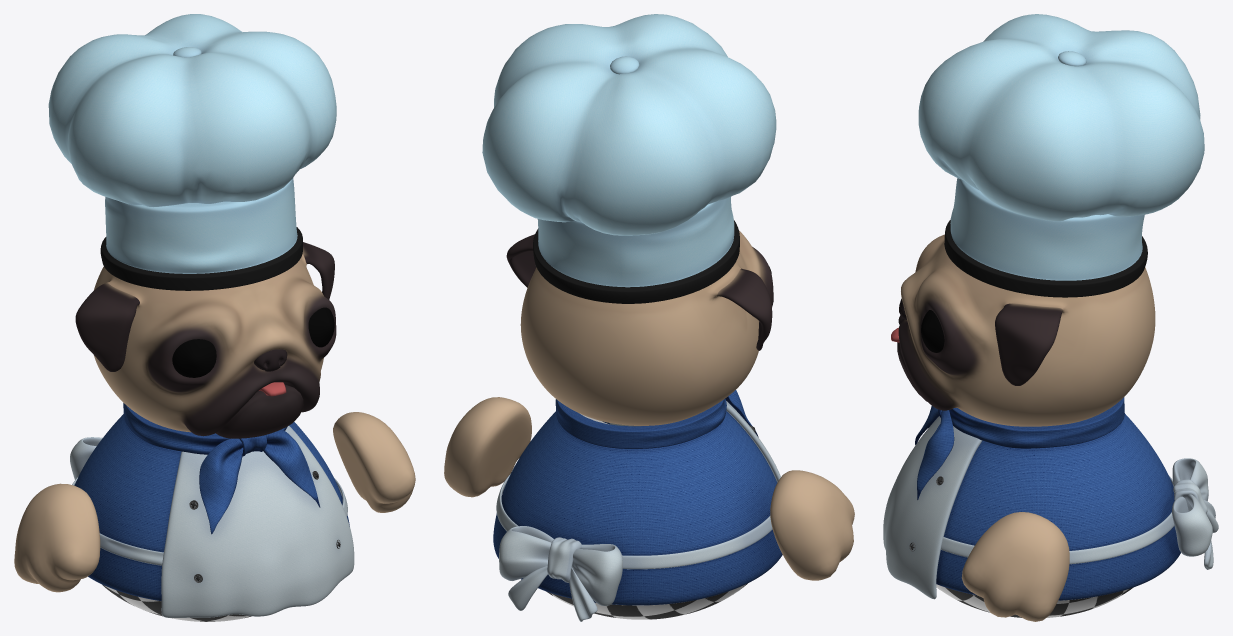
The model's file is pug.obj.
3 views of the same model, side by side, from view 1: azimuth 30°, elevation 25°; view 2: azimuth 150°, elevation 25°; view 3: azimuth 270°, elevation 25° (orthographic). The views are drawn at different scales.
Parts seen in each view (by area): view 1: hat_Untitled.002, head_Untitled.003, body_Untitled.001, pasted__n_pug_eyes_left_lens_Untitled.005, bottom_Untitled; view 2: hat_Untitled.002, body_Untitled.001, head_Untitled.003, bottom_Untitled; view 3: hat_Untitled.002, body_Untitled.001, head_Untitled.003, bottom_Untitled, pasted__n_pug_eyes_left_lens_Untitled.005.
Part boxes in pixels (left/top/right/bottom): hat_Untitled.002: left=48, top=14, right=336, bottom=290; head_Untitled.003: left=14, top=242, right=415, bottom=592; body_Untitled.001: left=70, top=403, right=354, bottom=617; pasted__n_pug_eyes_left_lens_Untitled.005: left=172, top=307, right=334, bottom=377; bottom_Untitled: left=102, top=584, right=251, bottom=621; hat_Untitled.002: left=482, top=14, right=776, bottom=303; body_Untitled.001: left=493, top=390, right=782, bottom=621; head_Untitled.003: left=444, top=230, right=854, bottom=580; bottom_Untitled: left=546, top=583, right=747, bottom=619; hat_Untitled.002: left=918, top=14, right=1204, bottom=297; body_Untitled.001: left=883, top=397, right=1218, bottom=600; head_Untitled.003: left=891, top=234, right=1155, bottom=621; bottom_Untitled: left=936, top=584, right=1133, bottom=617; pasted__n_pug_eyes_left_lens_Untitled.005: left=921, top=310, right=944, bottom=352.
Bounding box in the file's own units: 1.27 × 1.76 × 0.9623.
Materials: 7 (6 with a texture image).
